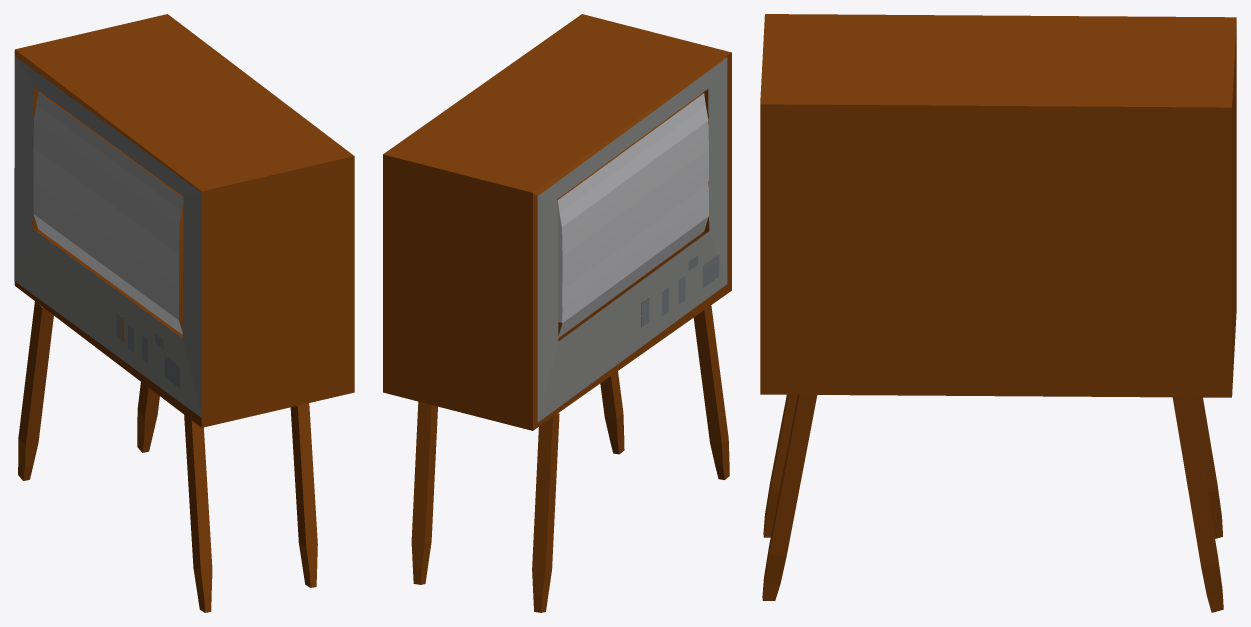
The model's file is TV.TUBO(1).fbx.
The picture shows the model from 3 angles, left to right: view 1: azimuth 30°, elevation 25°; view 2: azimuth 150°, elevation 25°; view 3: azimuth 270°, elevation 25°; orthographic projection. The views are drawn at different scales.
Parts seen in each view (by area): view 1: Cube; view 2: Cube; view 3: Cube.
Boxes of the visible parts, left/top/right/bottom form: Cube: left=14, top=14, right=354, bottom=612; Cube: left=383, top=14, right=731, bottom=612; Cube: left=760, top=14, right=1236, bottom=612.
Size of the model in its own units: 151 by 380 by 315.
